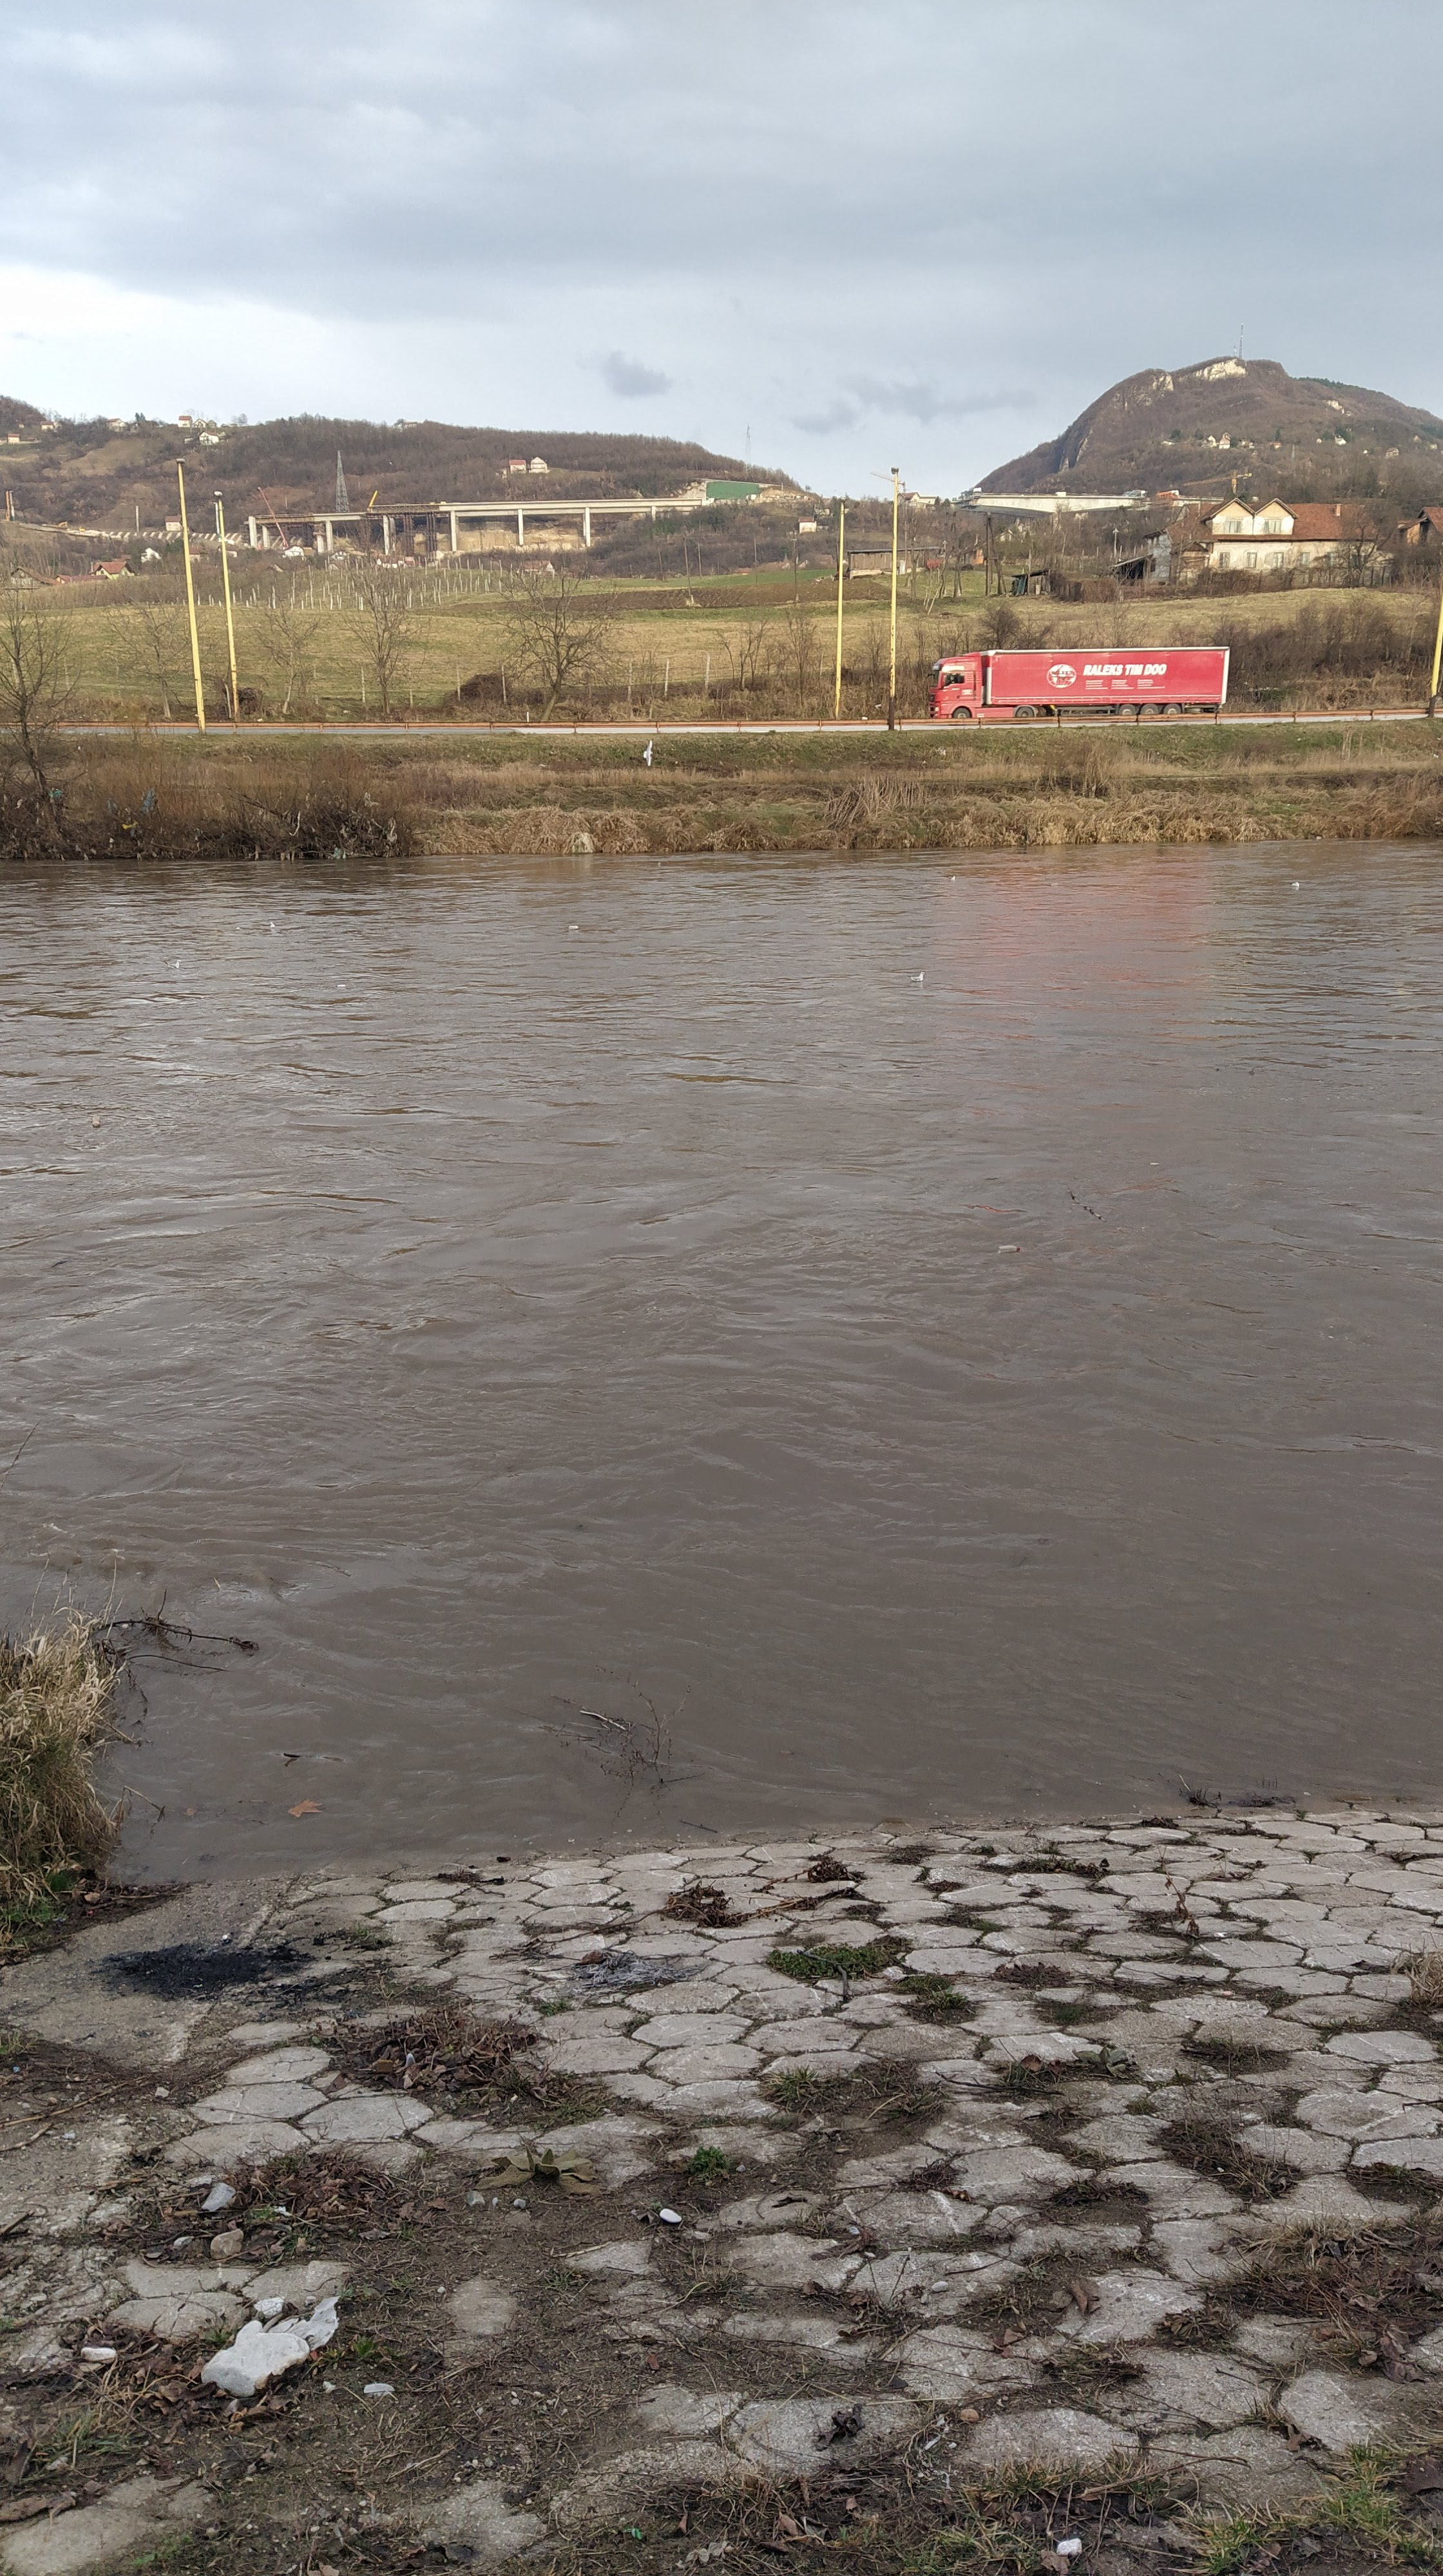Plastic Bottle: (997, 1246, 1020, 1253), (90, 1115, 99, 1127), (568, 924, 577, 929), (336, 984, 345, 987), (1050, 881, 1055, 885)
